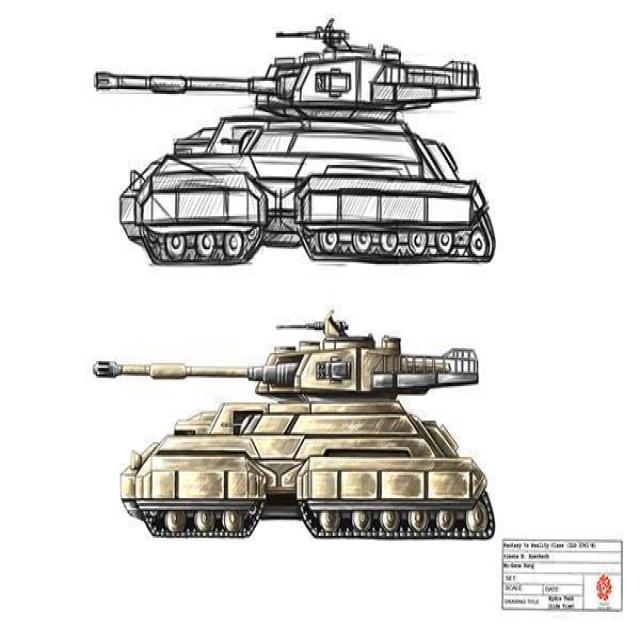Tanks: (79, 19, 501, 273), (80, 302, 500, 551)
